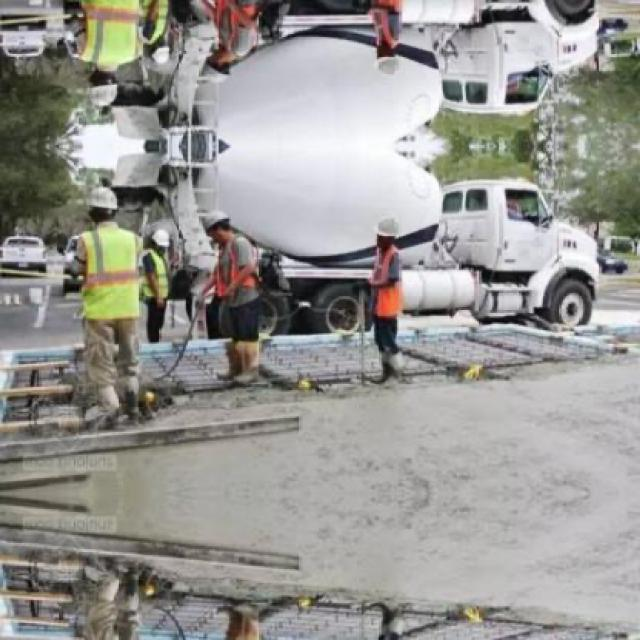con casco: (71, 176, 143, 223), (342, 215, 418, 257), (182, 202, 253, 243)
